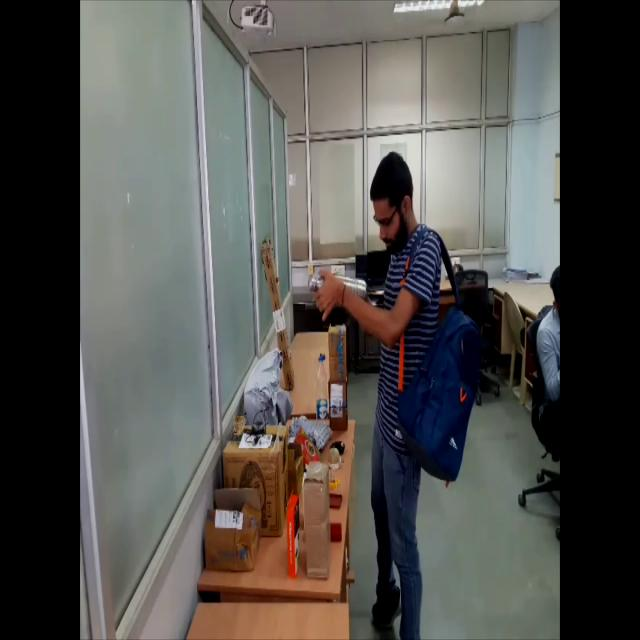normal: (308, 146, 484, 639)
